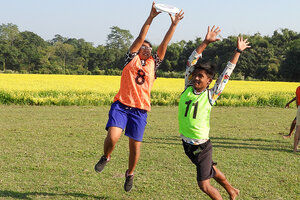disc: (152, 2, 180, 14)
